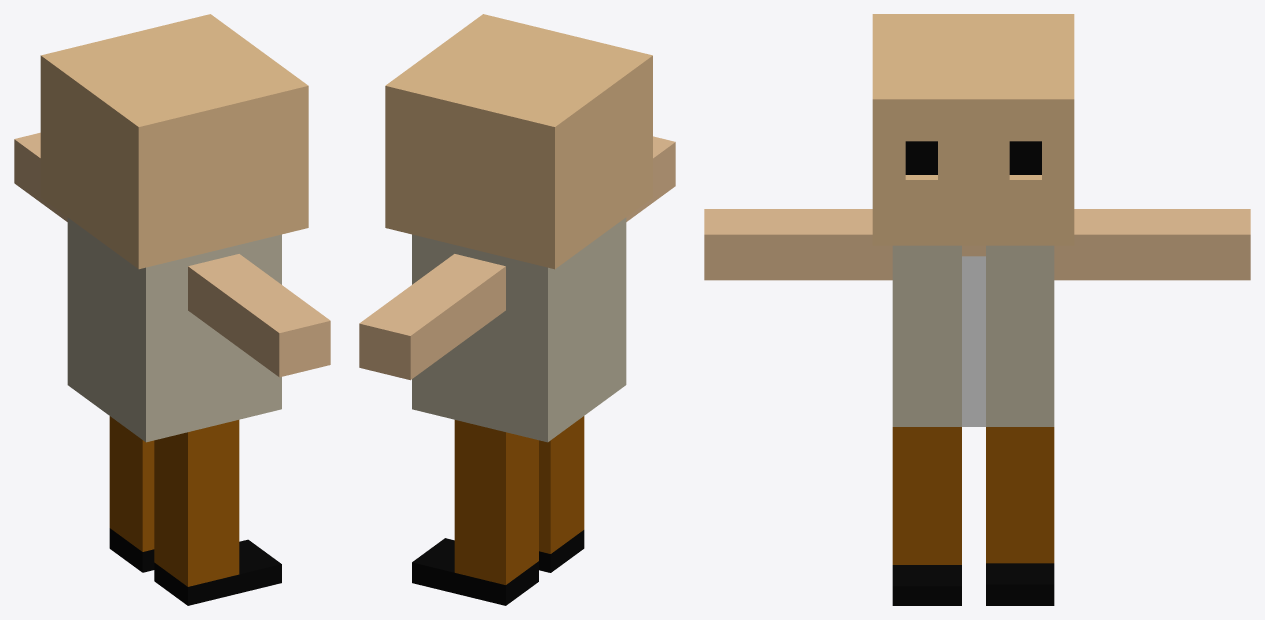
Rendered from TempleGuy 1.fbx.
3 renders of one model, left to right at view 1: azimuth 30°, elevation 25°; view 2: azimuth 150°, elevation 25°; view 3: azimuth 270°, elevation 25°, orthographic. The views are drawn at different scales.
Visible parts, largest first — view 1: Cube; view 2: Cube; view 3: Cube.
Boxes of the visible parts, left/top/right/bottom form: Cube: left=14, top=14, right=330, bottom=605; Cube: left=359, top=14, right=675, bottom=605; Cube: left=704, top=14, right=1250, bottom=605.
Size of the model in its own units: 50 by 141 by 135.
